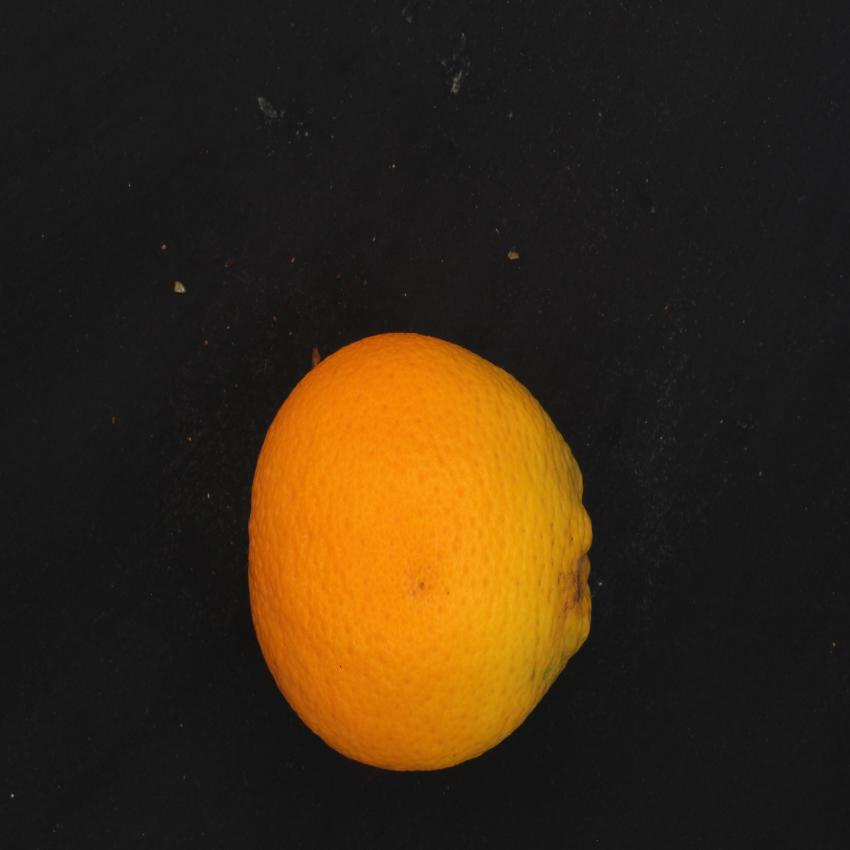Buen estado: (237, 315, 614, 783)
